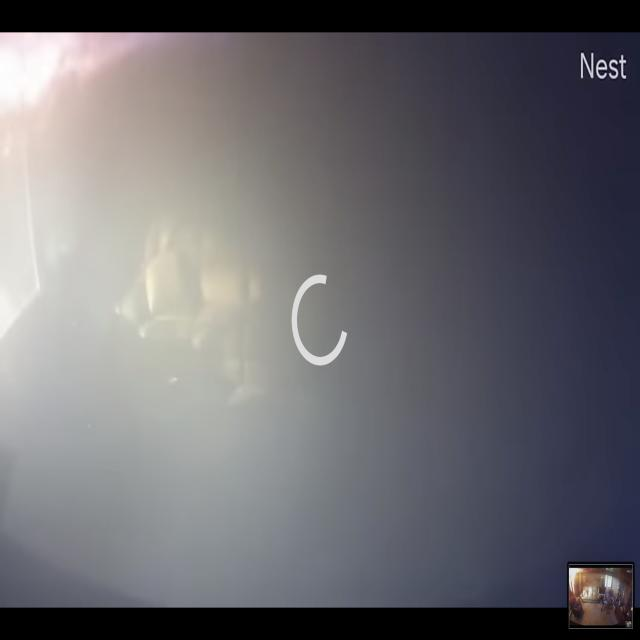Atencao: (7, 38, 634, 603)
